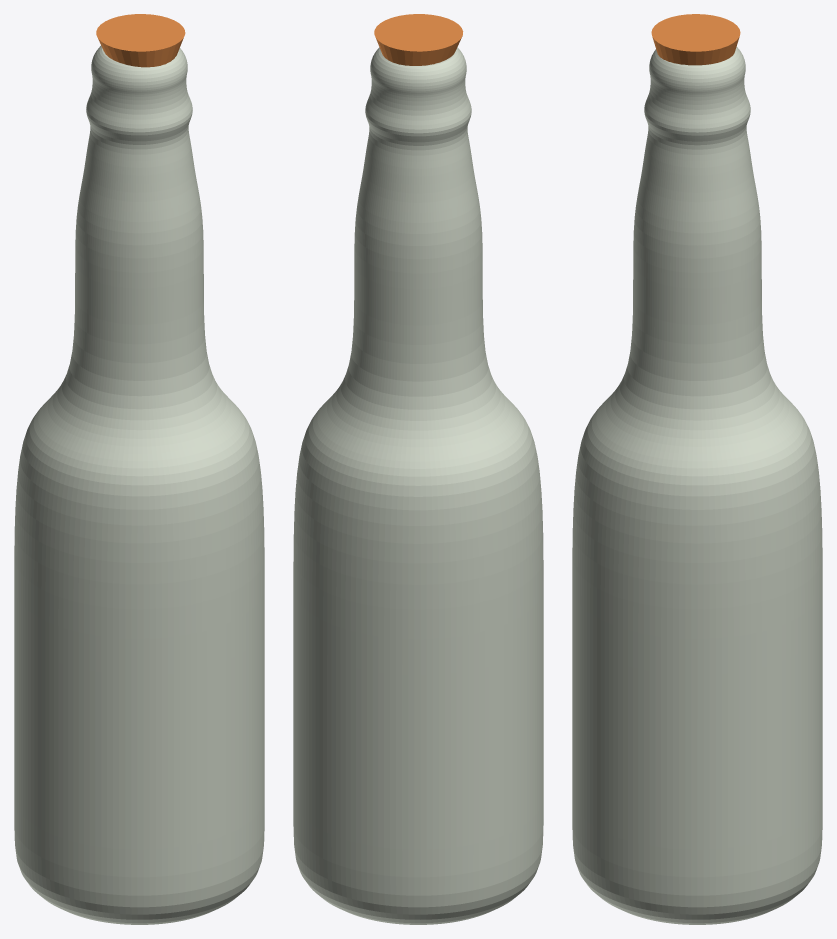
Rendered from Bottle .fbx.
3 renders of one model, left to right at view 1: azimuth 30°, elevation 25°; view 2: azimuth 150°, elevation 25°; view 3: azimuth 270°, elevation 25°, orthographic.
Visible parts, largest first — view 1: Cylinder.001, Cylinder.002; view 2: Cylinder.001, Cylinder.002; view 3: Cylinder.001, Cylinder.002.
Boxes of the visible parts, x1,y1,x2,y2 form: Cylinder.001: [14, 45, 264, 924]; Cylinder.002: [96, 14, 185, 67]; Cylinder.001: [293, 47, 543, 924]; Cylinder.002: [374, 14, 463, 65]; Cylinder.001: [572, 47, 822, 924]; Cylinder.002: [651, 14, 740, 65].
Size of the model in its own units: 104 by 395 by 104.
